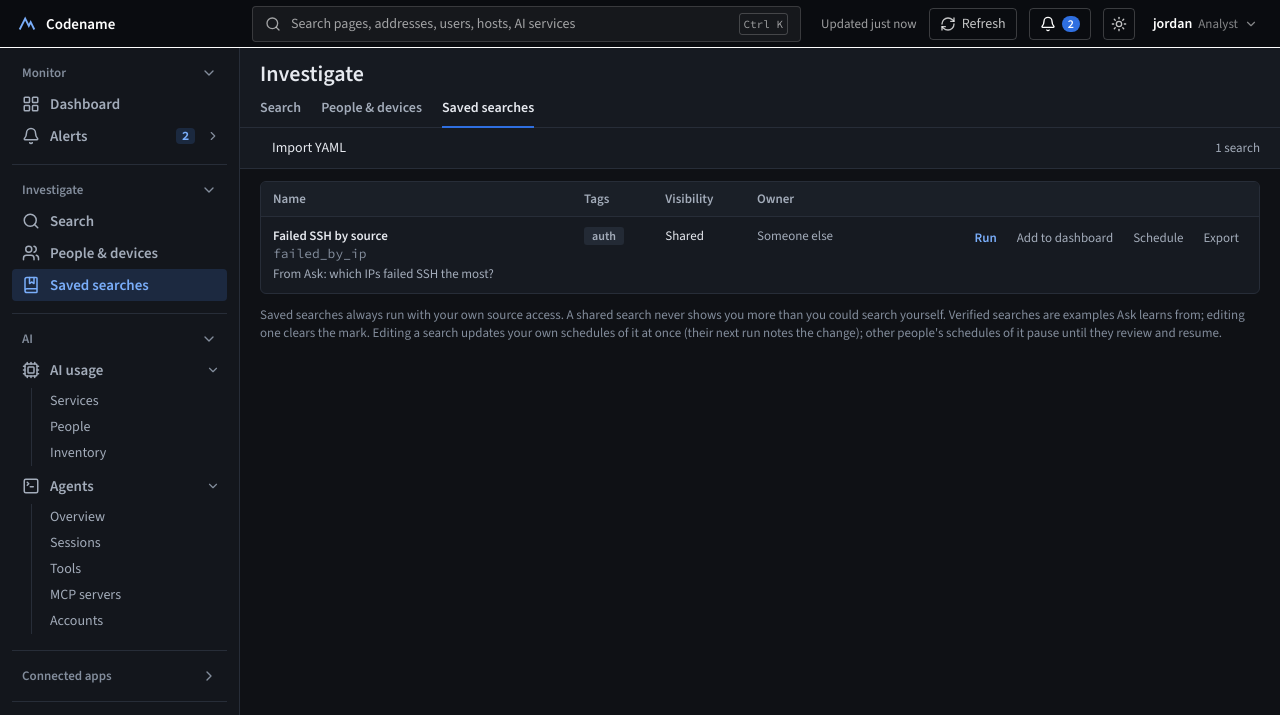
Test: Saved searches page › runs a search with its default parameters
The image size is (1280, 715).
What coordinates should you click on to do the following:
click the button with aria-label "Run Failed SSH by source"
I would click on:
 (986, 238)
Its box is [966,227,1005,249].
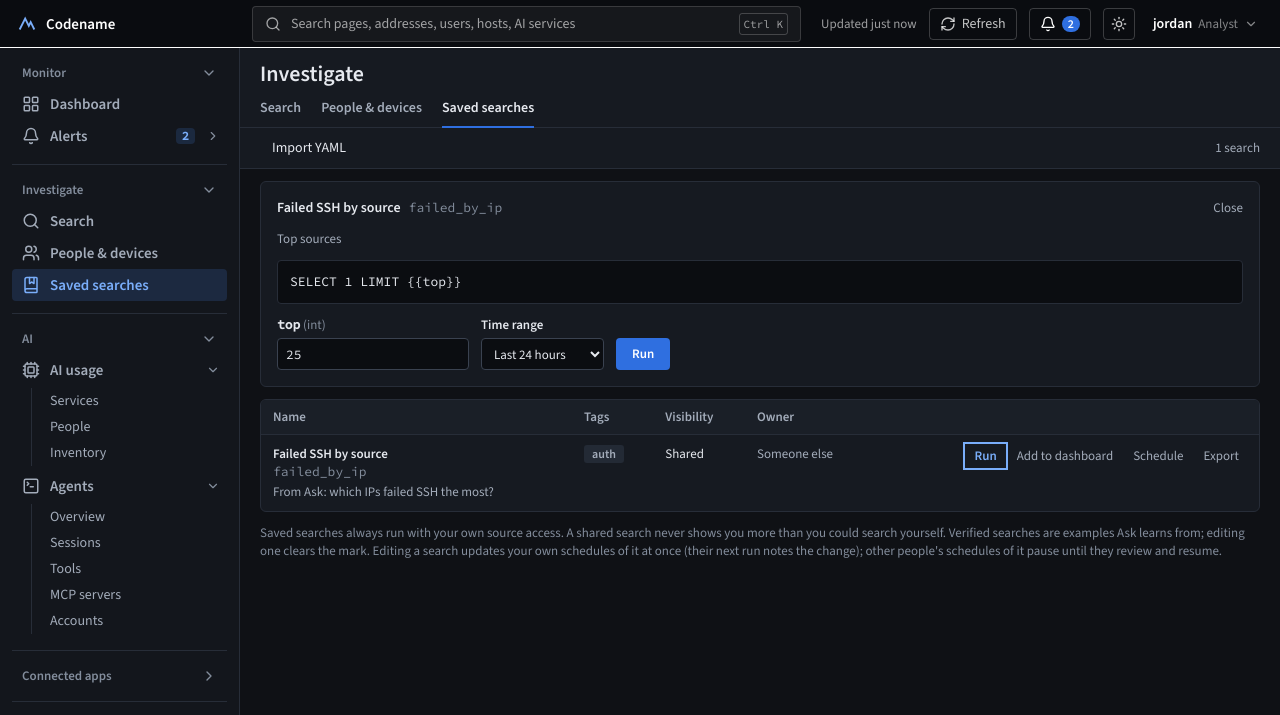
Check: the field labelled "top" holds "25", box [277,338,469,370]
What coordinates should you click on to do the following:
click the button "Run" below "Time range"
I would click on:
 (643, 354)
Its box is [616,338,670,370].
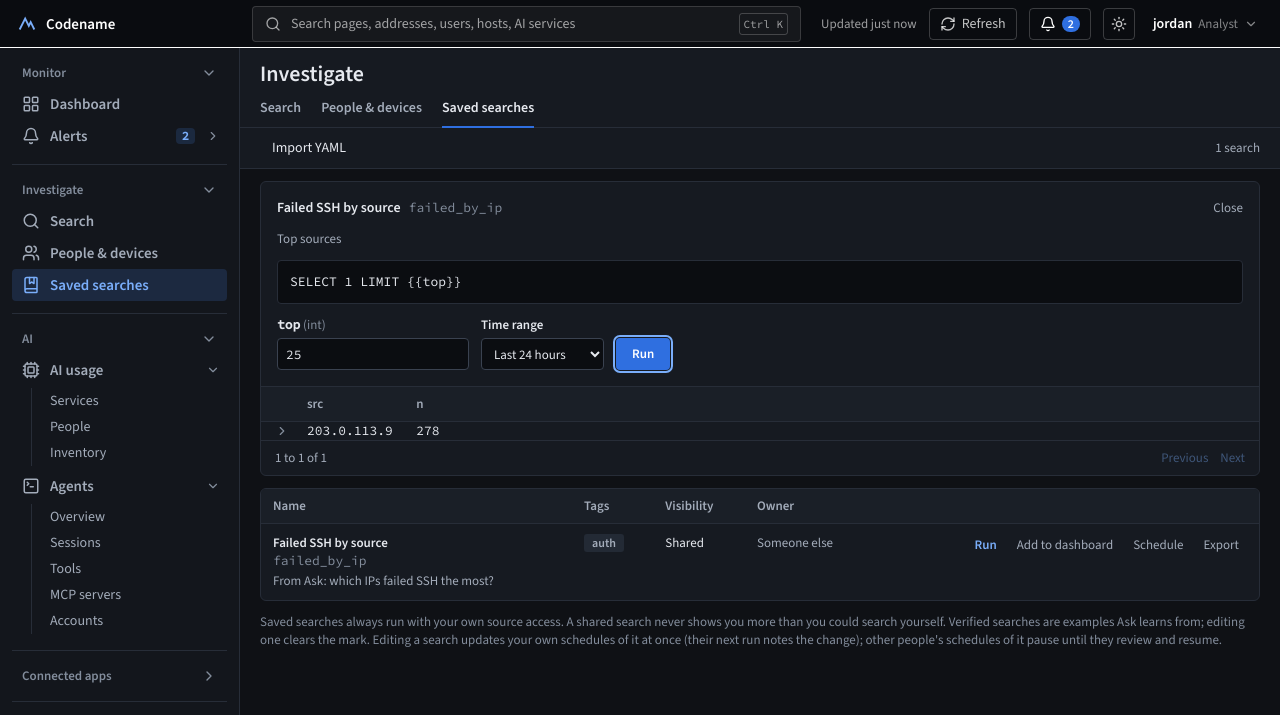
Check: the text "203.0.113.9" is shown, box [307,422,393,439]
